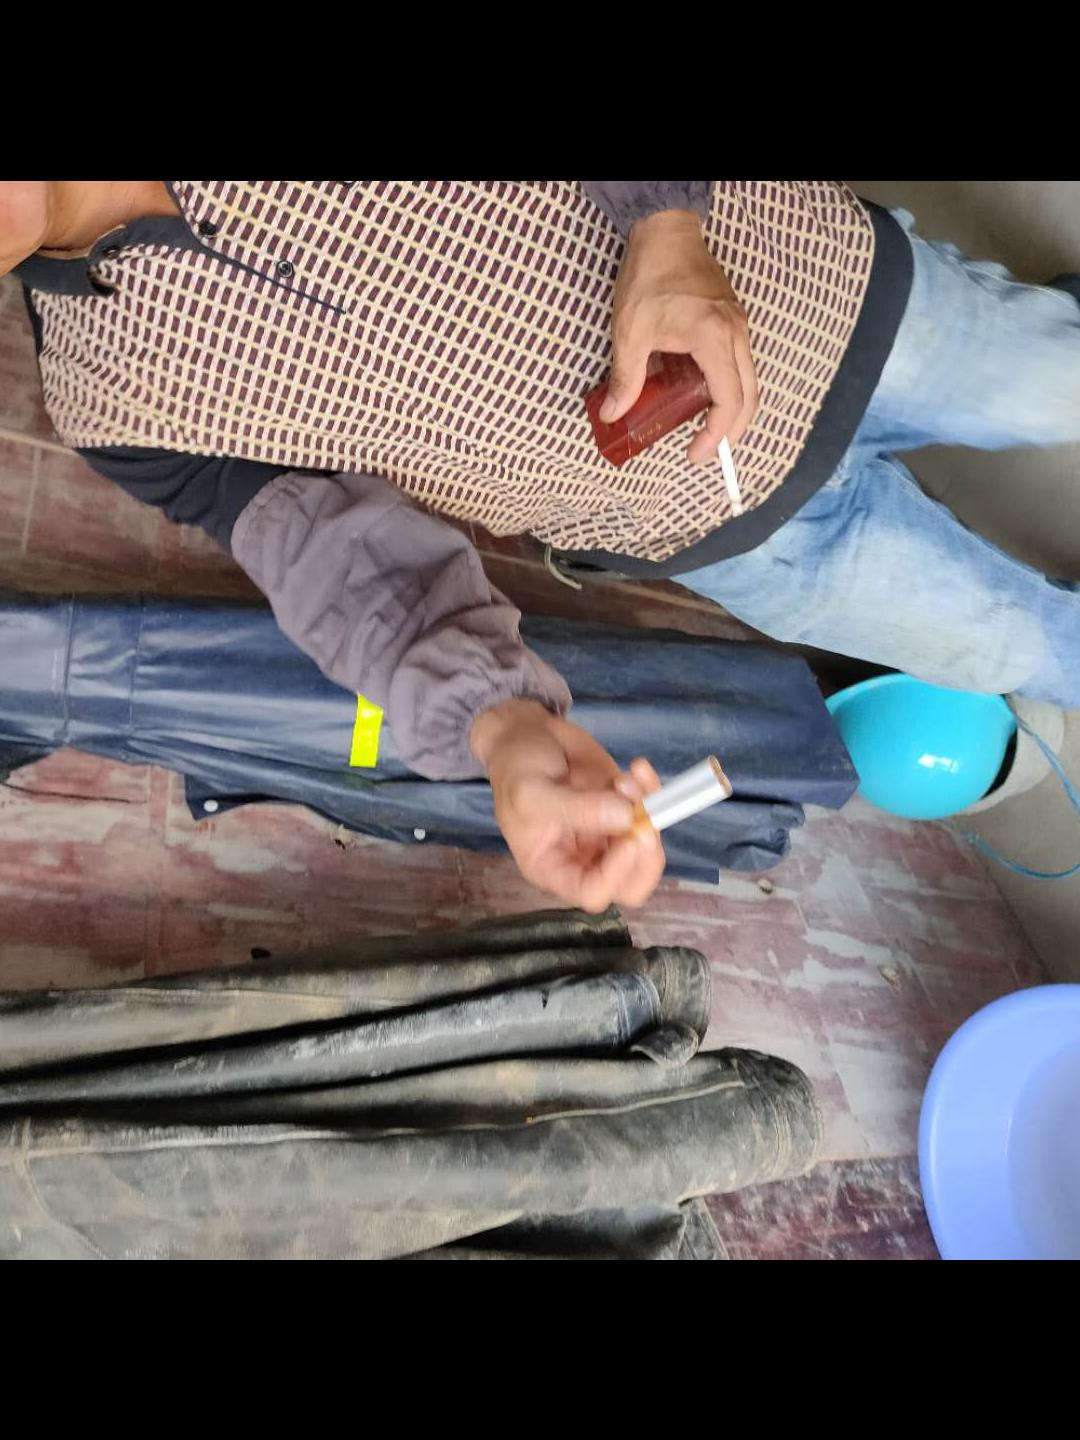Cigarette: (617, 754, 732, 842), (715, 434, 746, 515)
